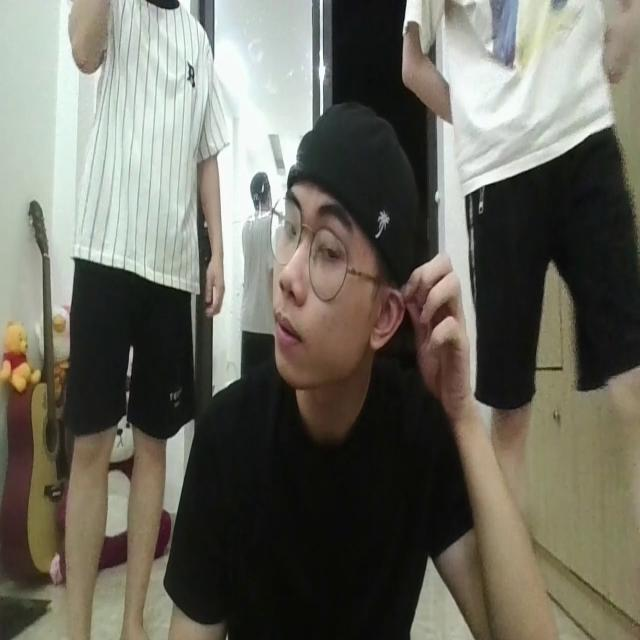extra_person: (399, 0, 640, 562), (55, 0, 229, 640)
student: (168, 90, 547, 640)
